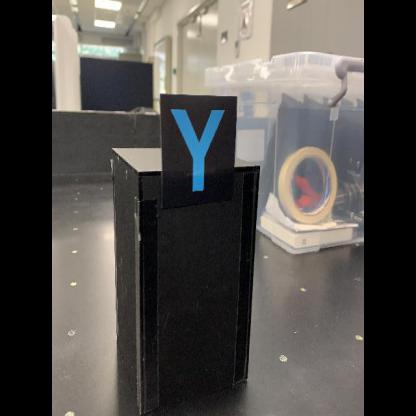y: (160, 93, 238, 205)
